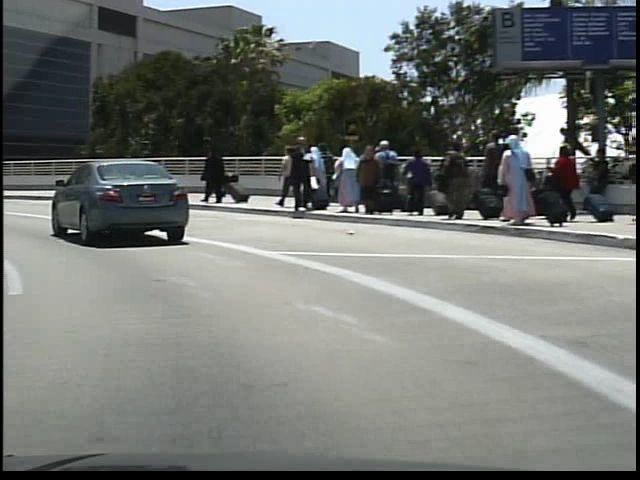person: (281, 135, 311, 212), (271, 142, 296, 212), (198, 145, 224, 205), (208, 153, 227, 199)
